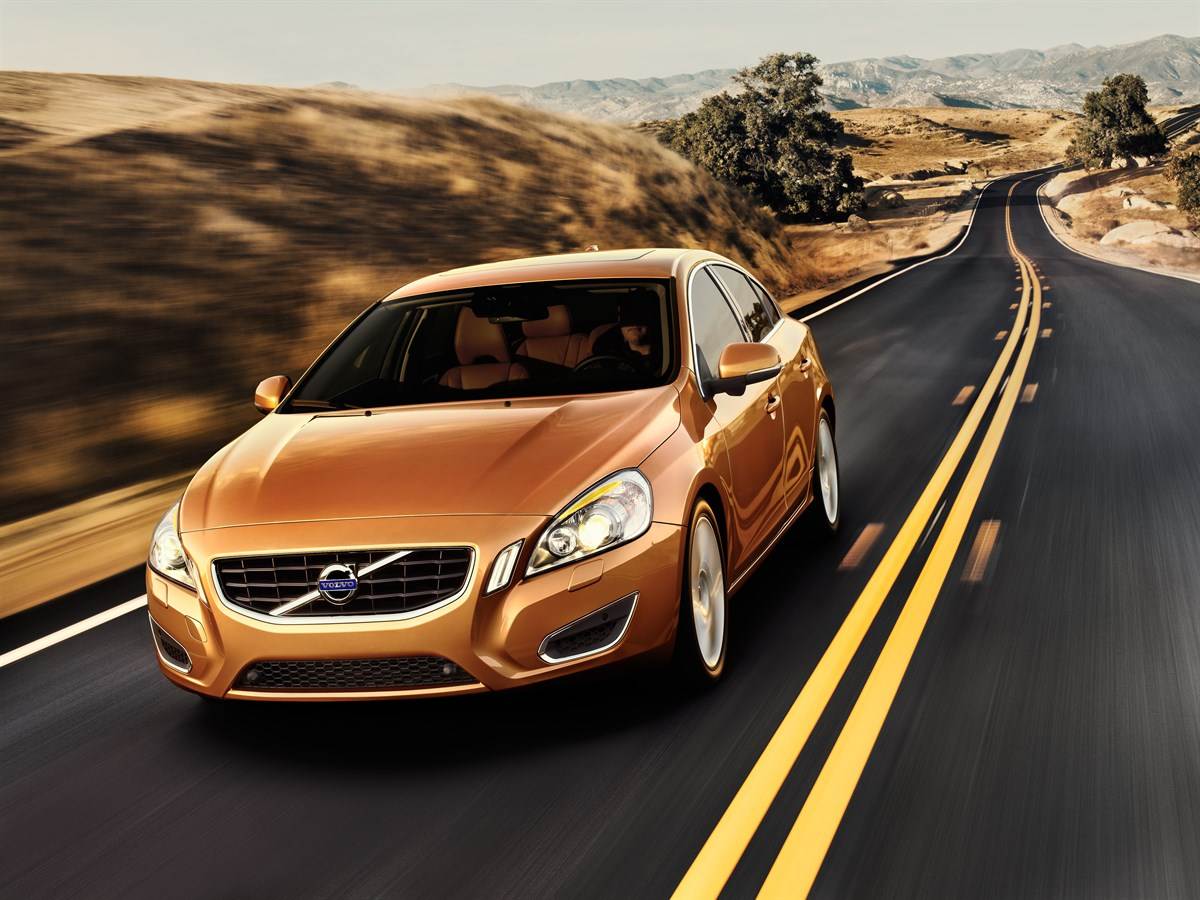other: (144, 231, 848, 718)
